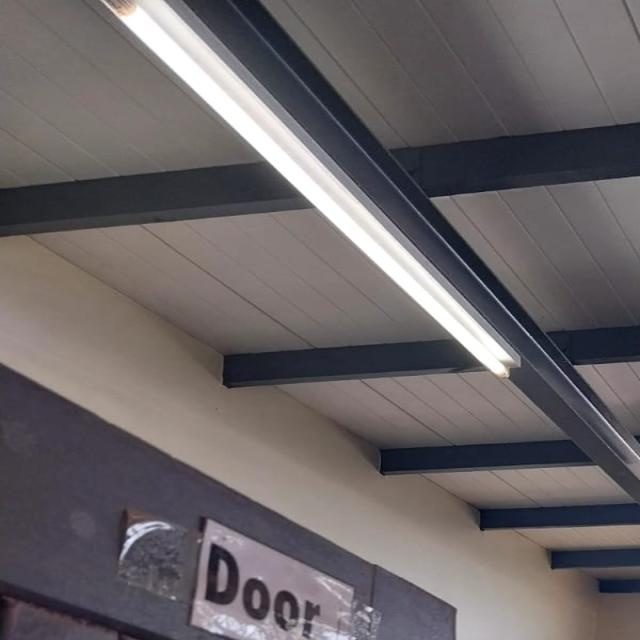fluorescent tube: (0, 0, 563, 404), (634, 508, 640, 616)
